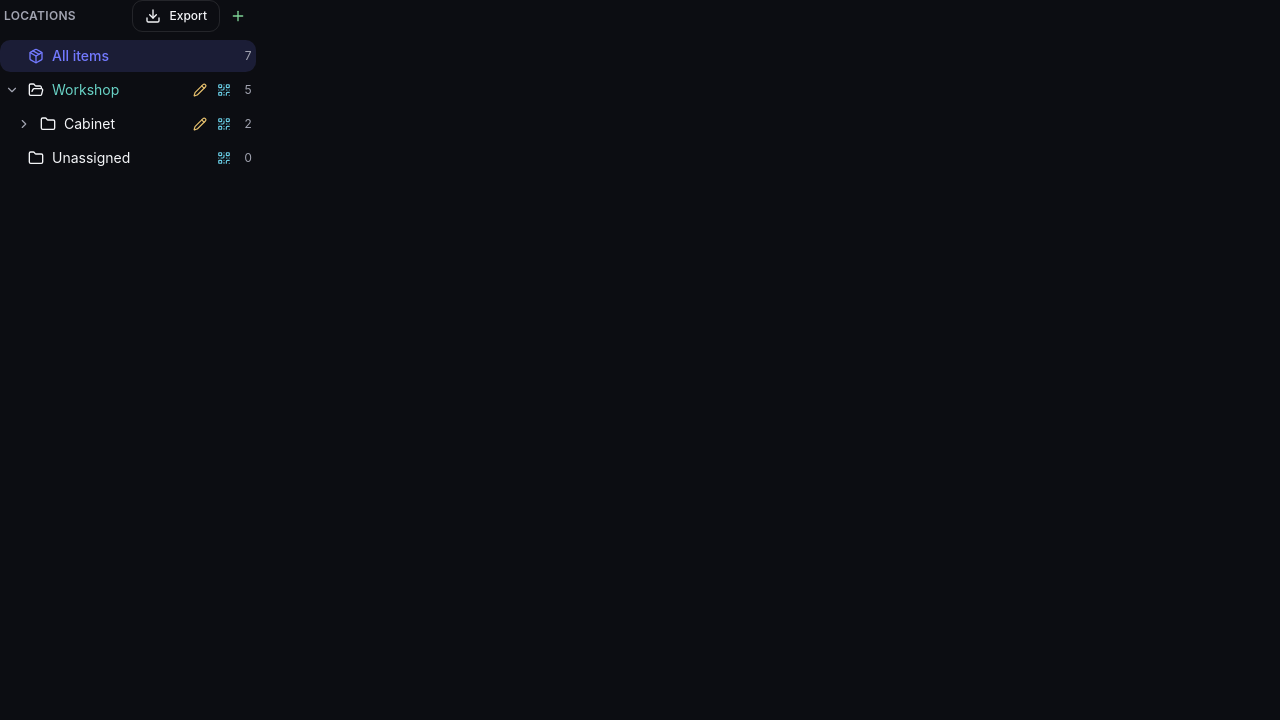
Test case: LocationSidebar — accessible APG tree › the pencil button opens the Edit dialog showing the location metadata
Click the button named "Edit Workshop": (200, 90) [188,78,212,102]
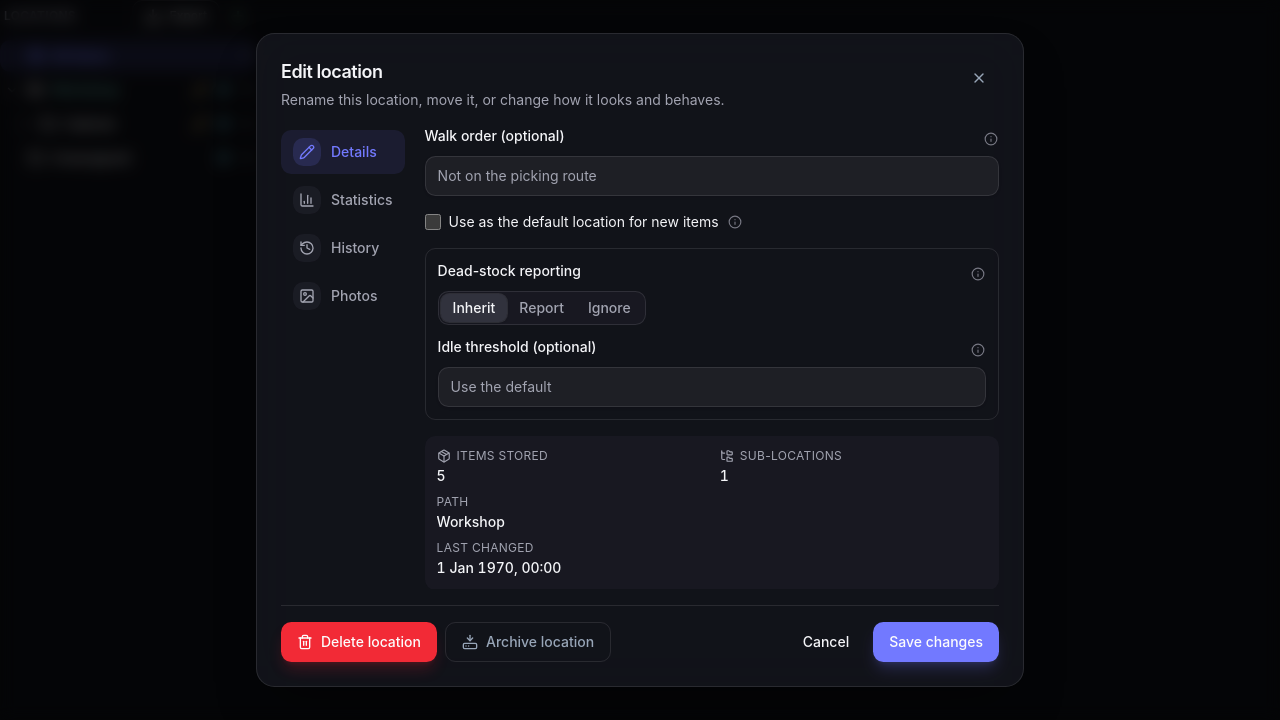
Result: the text "Items stored" is shown at [437,448,548,463]
Result: the text "Last changed" is shown at [437,540,534,555]
